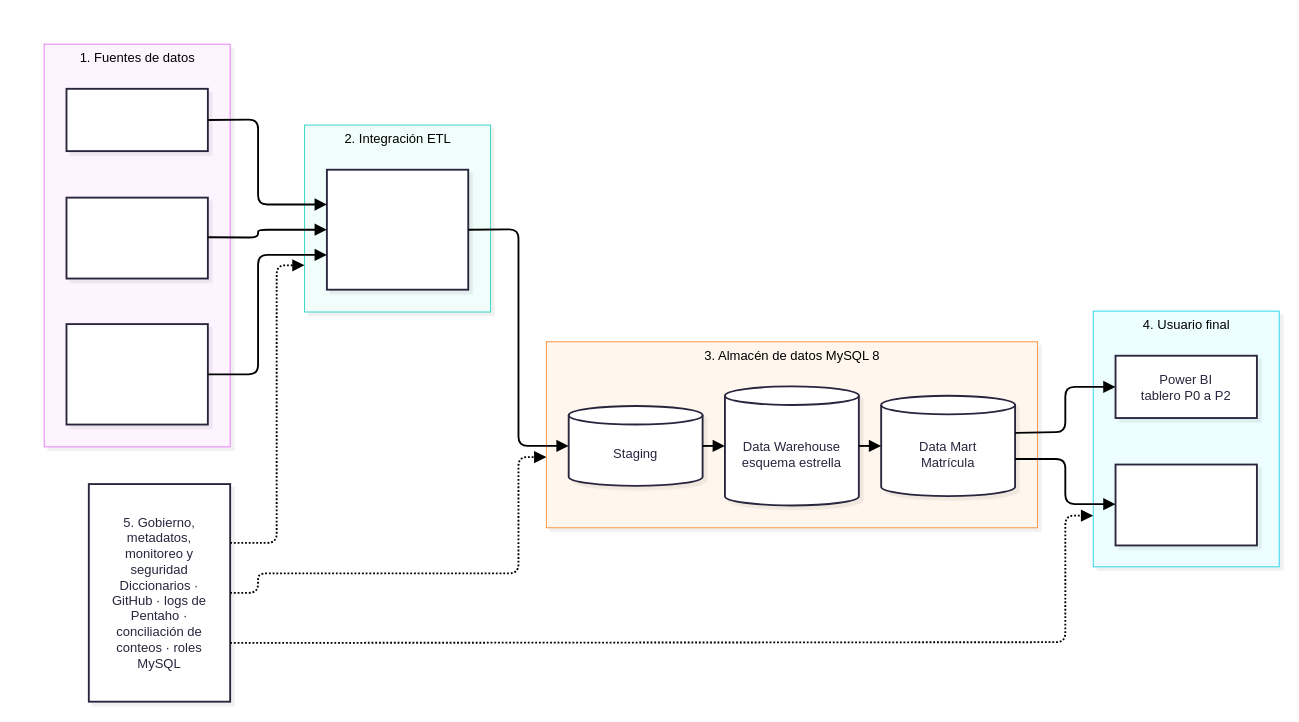
The diagram is 1299 pixels wide and 722 high, and some of its shapes have lost their labels. Here are the shapes that lost their labels. From the top down, the centre of each, then its label:
At (138,121): "F3 DIVIPOLA XML · 1.122 filas".
At (138,239): "F1 Instituciones IES CSV · 361 filas".
At (399,231): "Pentaho PDI limpieza, deduplicación, normalización de códigos".
At (138,376): "F2 Matrícula estadística CSV · 390.903 filas".
At (1187,506): "Python notebooks proyección P3".
